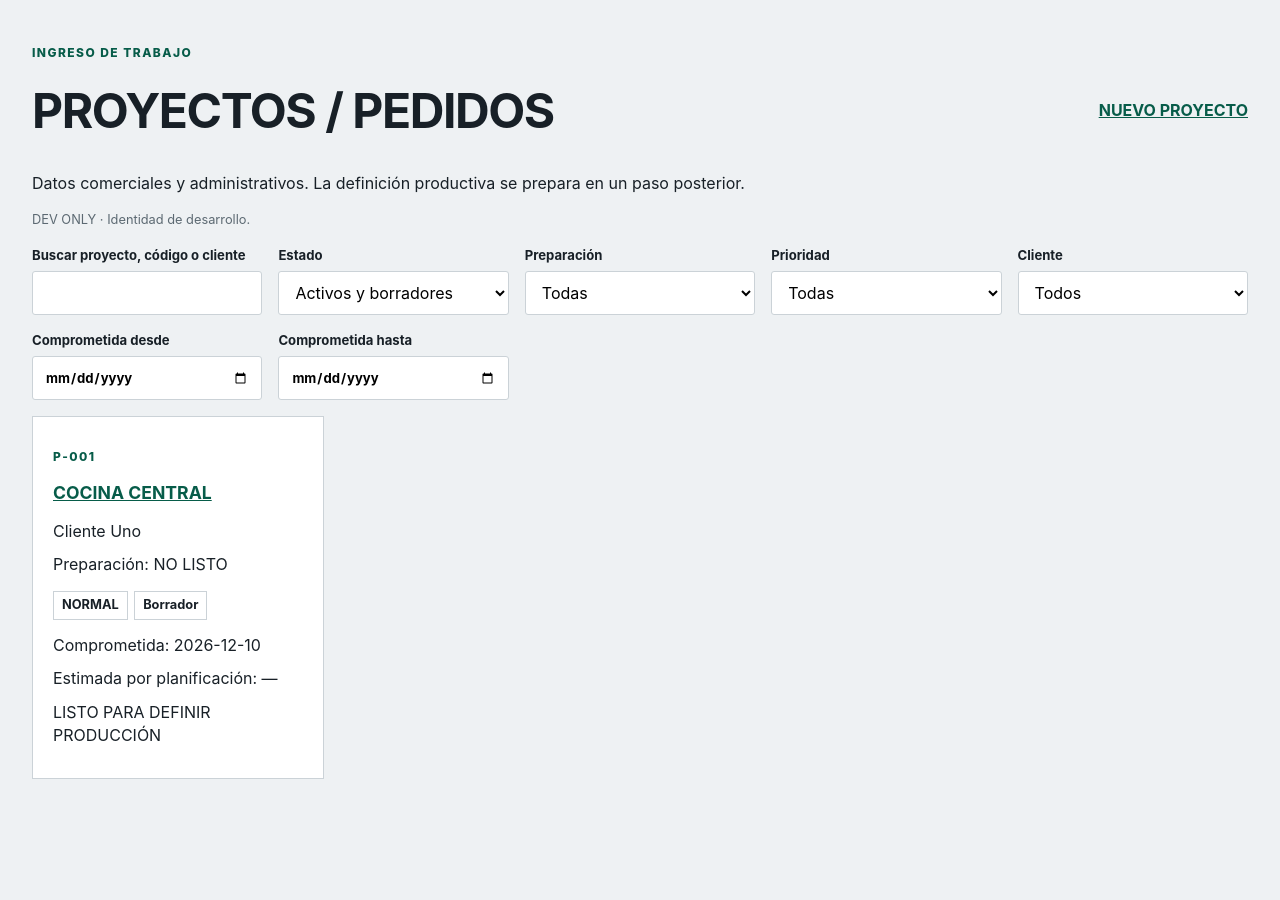
filtro Estado se aplica
Check: the link "Cocina Central" is shown, box [53,482,212,503]
Select "Archivado" in the dropdown labelled "Estado" at coordinates (394, 293), box [278,271,509,315]
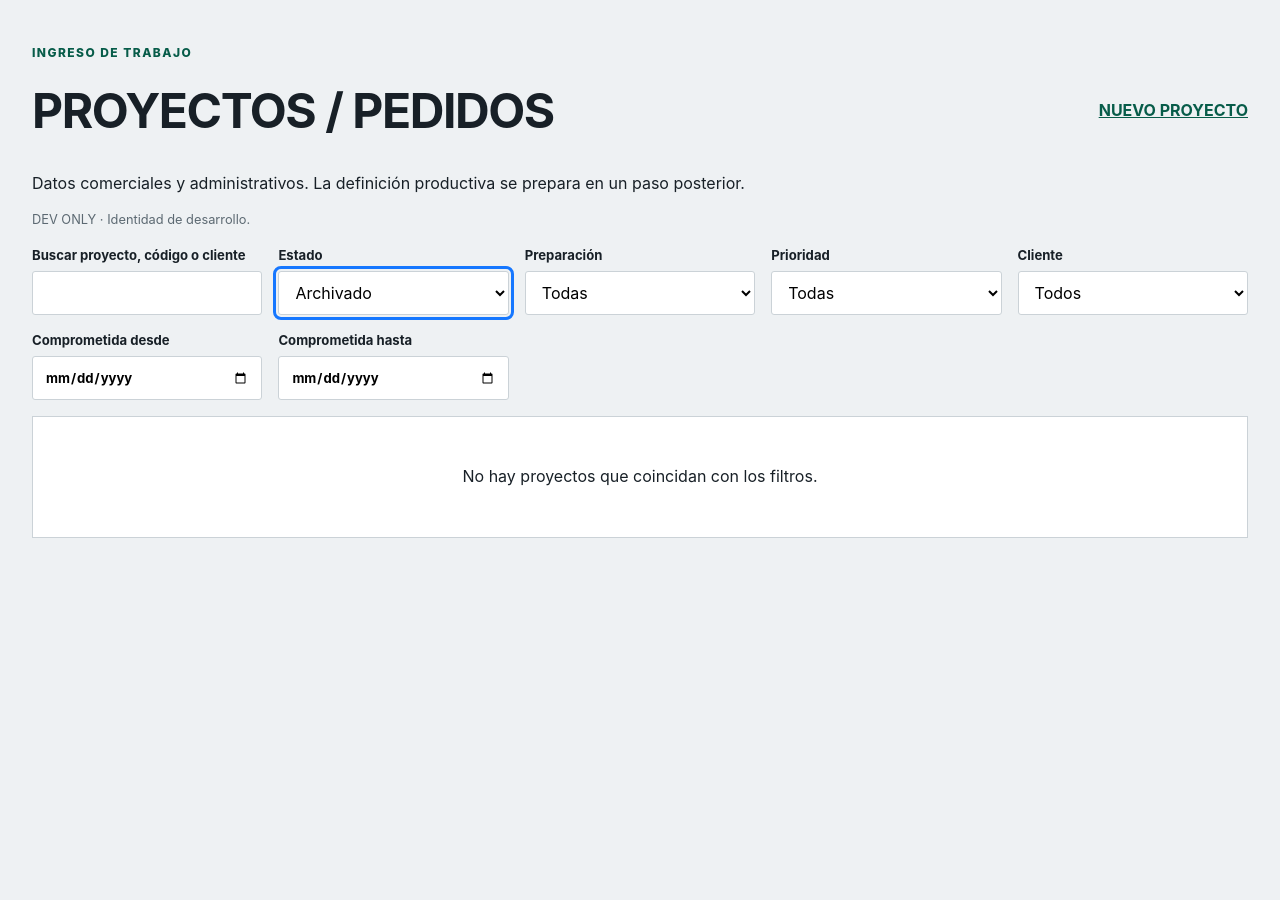
Check: the link "Cocina Central" is gone
